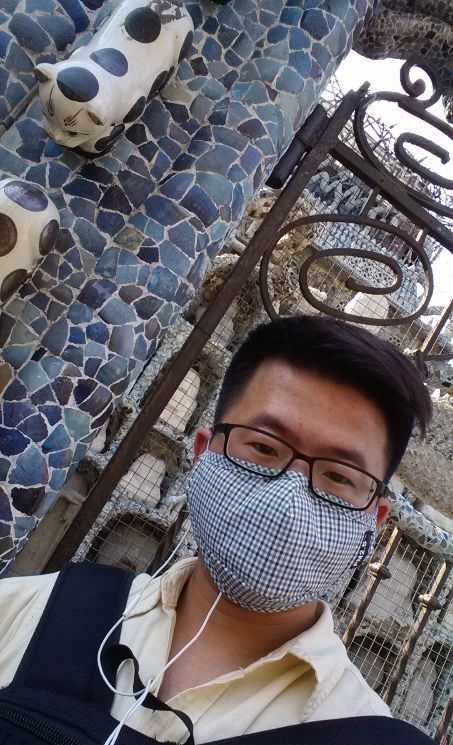face_mask: (198, 341, 383, 613)
